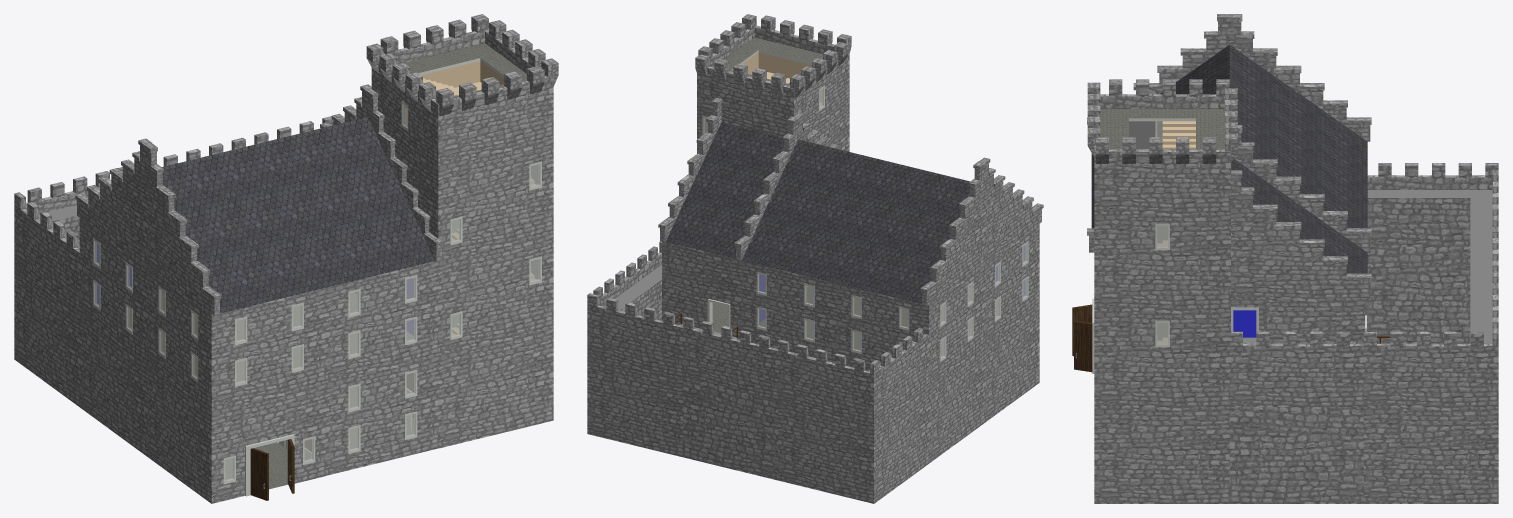
The model's file is hauntedcastle4.glb.
3 renders of one model, left to right at view 1: azimuth 30°, elevation 25°; view 2: azimuth 150°, elevation 25°; view 3: azimuth 270°, elevation 25°, orthographic. The views are drawn at different scales.
Visible parts, largest first — view 1: Roof.Top_tcollider.001, Roof.Top_tcollider, wall_exterior_tcollider.006, Roof.Edge_tcollider, wall_exterior_tcollider.012, wall_exterior_tcollider.011, wall_exterior_tcollider.005, wall_exterior_tcollider.027, wall_exterior_tcollider.016, wall_exterior_tcollider.001, wall_exterior_tcollider.009, wall_exterior_tcollider.025 (+17 smaller); view 2: Roof.Top_tcollider.001, Roof.Top_tcollider, Roof.Top_tcollider.002, wall_exterior_tcollider.022, wall_interior_tcollider.053, wall_exterior_tcollider.023, Roof.Edge_tcollider, wall_interior_tcollider.072, wall_exterior_tcollider.021, wall_exterior_tcollider.024, wall_exterior_tcollider.020, wall_exterior_tcollider.015 (+19 smaller); view 3: wall_exterior_tcollider.017, wall_exterior_tcollider.034, wall_interior_tcollider.044, wall_exterior_tcollider.038, wall_exterior_tcollider.013, Roof.Edge_tcollider.002, wall_interior_tcollider.099, wall_exterior_tcollider.010, wall_exterior_tcollider.019, Roof.Top_tcollider, wall_exterior_tcollider.018, Roof.Edge_tcollider (+19 smaller).
Boxes of the visible parts, bbox=[...] form: Roof.Top_tcollider.001: bbox=[260, 117, 434, 287]; Roof.Top_tcollider: bbox=[162, 143, 326, 313]; wall_exterior_tcollider.006: bbox=[439, 326, 553, 448]; Roof.Edge_tcollider: bbox=[75, 138, 221, 315]; wall_exterior_tcollider.012: bbox=[438, 231, 553, 353]; wall_exterior_tcollider.011: bbox=[438, 136, 553, 257]; wall_exterior_tcollider.005: bbox=[326, 353, 439, 475]; wall_exterior_tcollider.027: bbox=[211, 288, 325, 408]; wall_exterior_tcollider.016: bbox=[326, 261, 439, 380]; wall_exterior_tcollider.001: bbox=[211, 381, 325, 503]; wall_exterior_tcollider.009: bbox=[438, 68, 553, 163]; wall_exterior_tcollider.025: bbox=[14, 265, 80, 407]; Roof.Top_tcollider.001: bbox=[742, 139, 888, 282]; Roof.Top_tcollider: bbox=[832, 161, 969, 303]; Roof.Top_tcollider.002: bbox=[666, 122, 783, 258]; wall_exterior_tcollider.022: bbox=[587, 354, 683, 457]; wall_interior_tcollider.053: bbox=[683, 378, 778, 480]; wall_exterior_tcollider.023: bbox=[778, 401, 873, 503]; Roof.Edge_tcollider: bbox=[920, 157, 1043, 306]; wall_interior_tcollider.072: bbox=[738, 260, 832, 360]; wall_exterior_tcollider.021: bbox=[587, 295, 683, 377]; wall_exterior_tcollider.024: bbox=[778, 341, 873, 424]; wall_exterior_tcollider.020: bbox=[683, 318, 778, 400]; wall_exterior_tcollider.015: bbox=[695, 56, 793, 136]; wall_exterior_tcollider.017: bbox=[1363, 407, 1498, 503]; wall_exterior_tcollider.034: bbox=[1094, 407, 1229, 503]; wall_interior_tcollider.044: bbox=[1229, 407, 1363, 503]; wall_exterior_tcollider.038: bbox=[1094, 212, 1230, 309]; wall_exterior_tcollider.013: bbox=[1094, 309, 1230, 406]; Roof.Edge_tcollider.002: bbox=[1231, 170, 1371, 297]; wall_interior_tcollider.099: bbox=[1365, 246, 1470, 343]; wall_exterior_tcollider.010: bbox=[1094, 139, 1230, 212]; wall_exterior_tcollider.019: bbox=[1363, 334, 1498, 406]; Roof.Top_tcollider: bbox=[1091, 44, 1367, 195]; wall_exterior_tcollider.018: bbox=[1229, 334, 1363, 406]; Roof.Edge_tcollider: bbox=[1087, 14, 1371, 141].
Bounding box in the file's own units: 30.8 × 30.11 × 31.85.
Materials: 29 (10 with a texture image).
